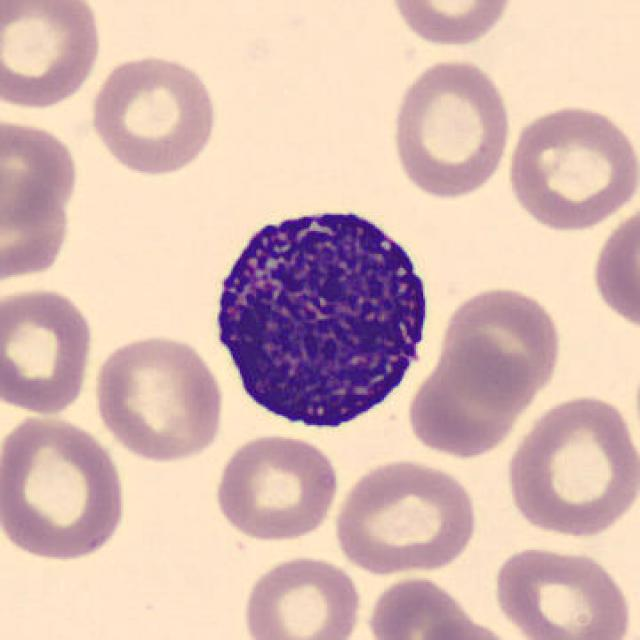Basophil: (201, 187, 441, 441)
RBC: (0, 409, 132, 564), (503, 390, 638, 541), (89, 329, 227, 464), (388, 55, 514, 201), (503, 100, 638, 234), (331, 455, 480, 576), (404, 330, 535, 462), (86, 51, 220, 178), (438, 282, 566, 406), (210, 430, 341, 543), (489, 541, 635, 640), (0, 284, 96, 418), (0, 0, 105, 111), (238, 552, 364, 640), (0, 113, 82, 231), (364, 573, 476, 640), (588, 199, 638, 337), (385, 0, 519, 49), (412, 617, 521, 640)
